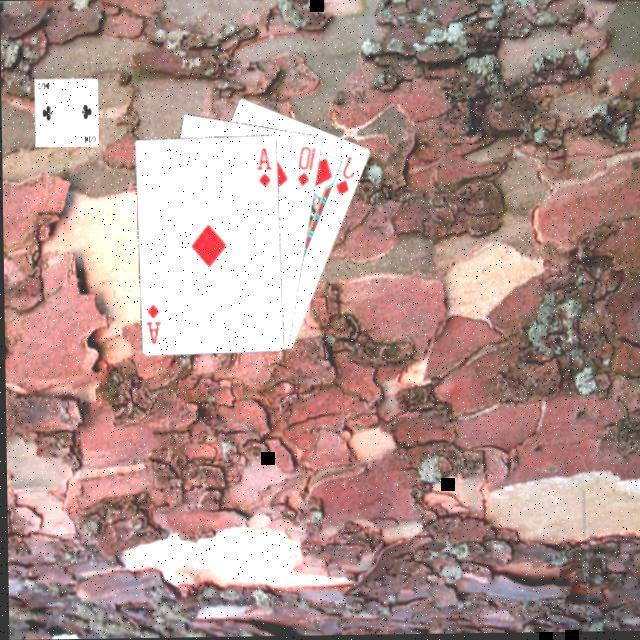10D: (292, 142, 319, 188)
AD: (141, 300, 163, 346), (252, 143, 274, 188)
JD: (330, 152, 357, 198)
